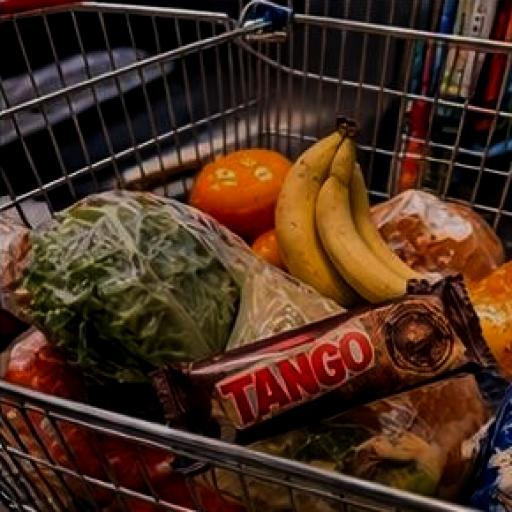tango: (84, 236, 508, 450)
